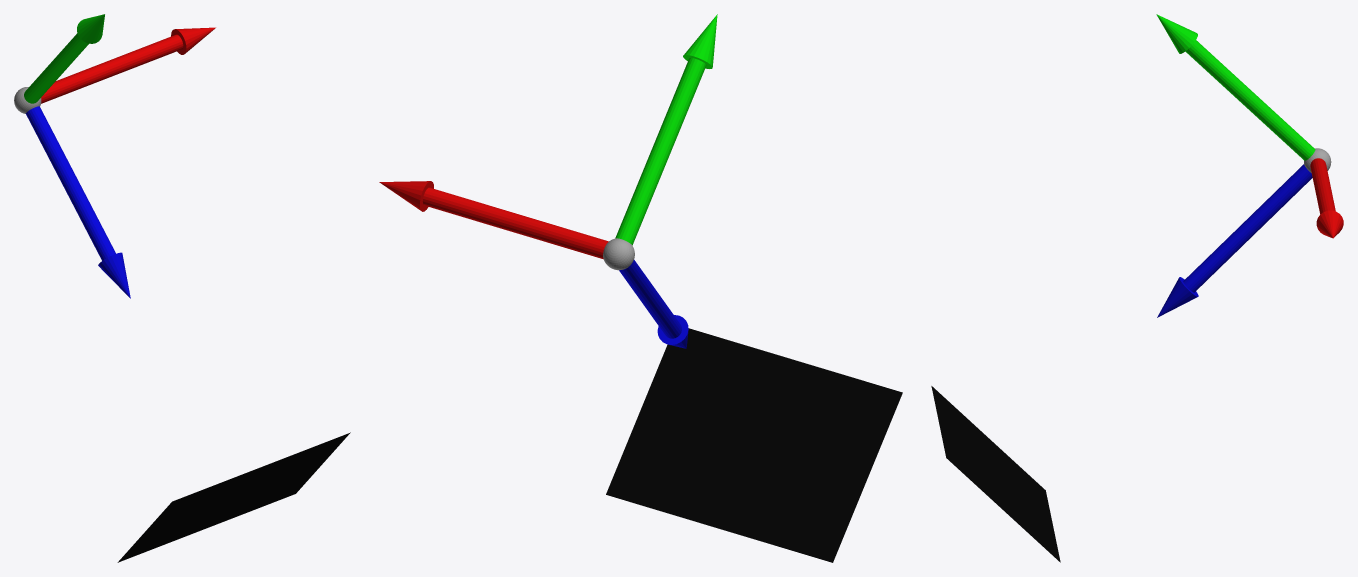
The picture shows the model from 3 angles, left to right: view 1: azimuth 30°, elevation 25°; view 2: azimuth 150°, elevation 25°; view 3: azimuth 270°, elevation 25°; orthographic projection. The views are drawn at different scales.
Size of the model in its own units: 0.1551 by 0.3005 by 0.2257.
